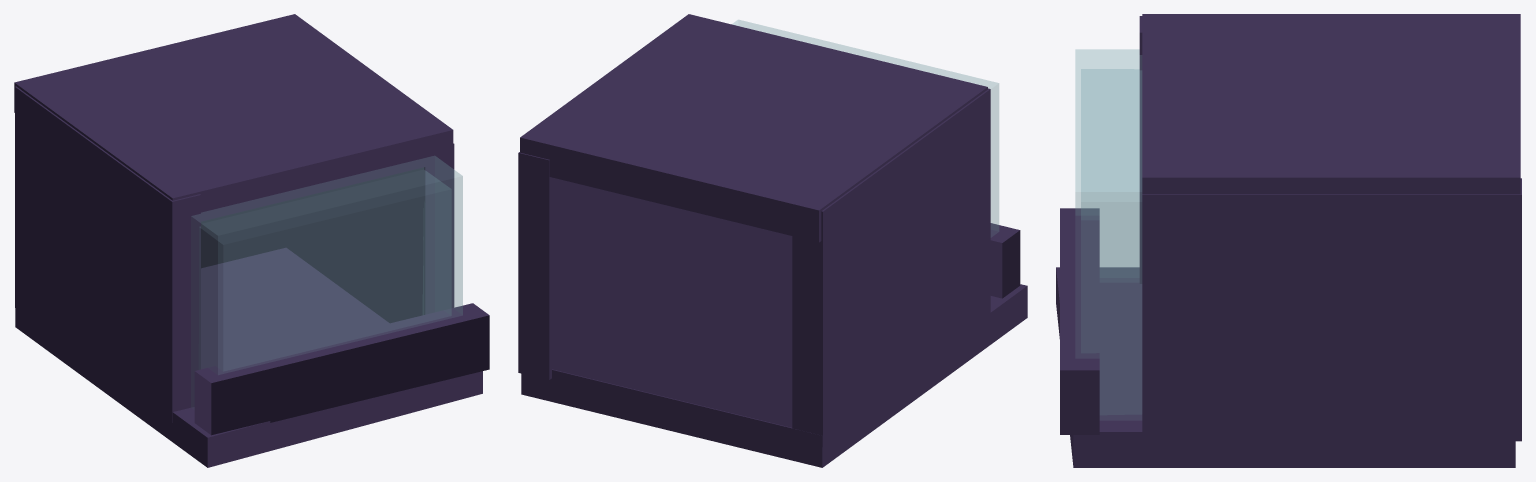
Rendered from control_room.FBX.
3 views of the same model, side by side, from view 1: azimuth 30°, elevation 25°; view 2: azimuth 150°, elevation 25°; view 3: azimuth 270°, elevation 25° (orthographic). The views are drawn at different scales.
Parts seen in each view (by area): view 1: Cube__5_; view 2: Cube__5_; view 3: Cube__5_.
Boxes of the visible parts, x1=… form: Cube__5_: x1=14, y1=14, x2=489, y2=467; Cube__5_: x1=518, y1=14, x2=1027, y2=467; Cube__5_: x1=1056, y1=14, x2=1521, y2=467.
Size of the model in its own units: 388 by 317 by 461.
